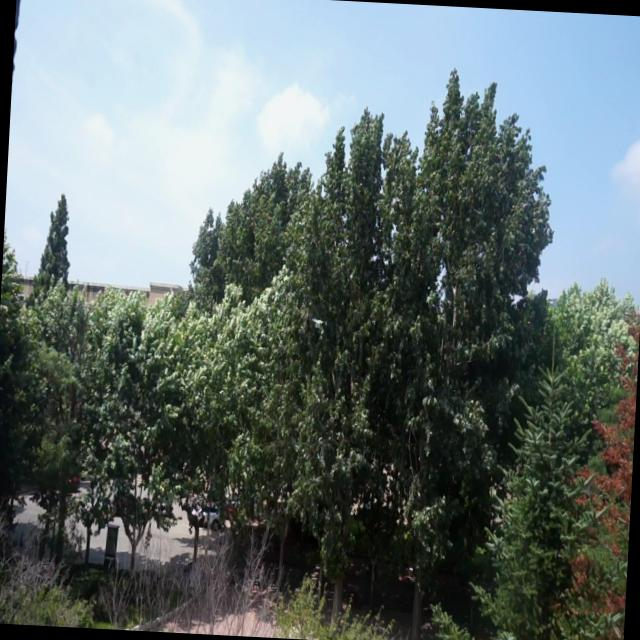drone: (306, 312, 330, 334)
